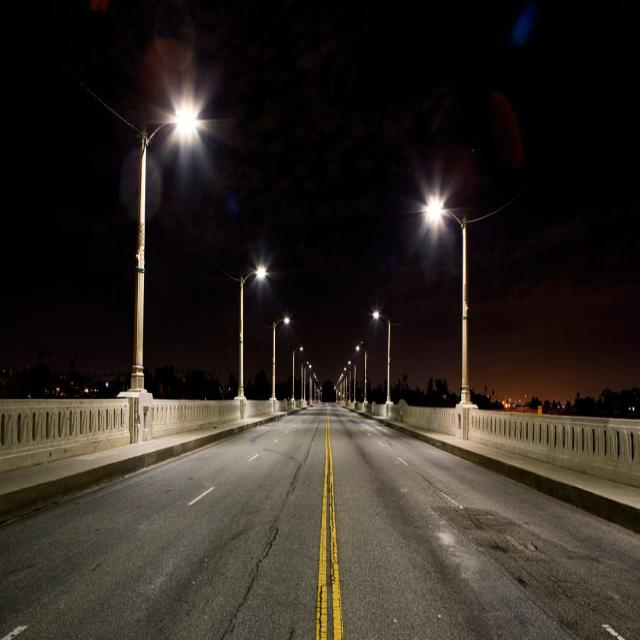Street Light: (132, 108, 196, 390), (424, 202, 470, 406), (239, 267, 265, 396), (372, 311, 391, 402), (272, 316, 289, 396), (292, 346, 303, 396), (356, 345, 366, 399)
